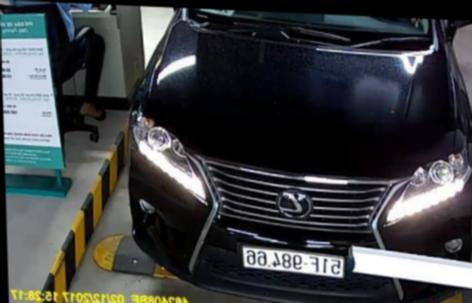License_Plate: (234, 246, 350, 279)
